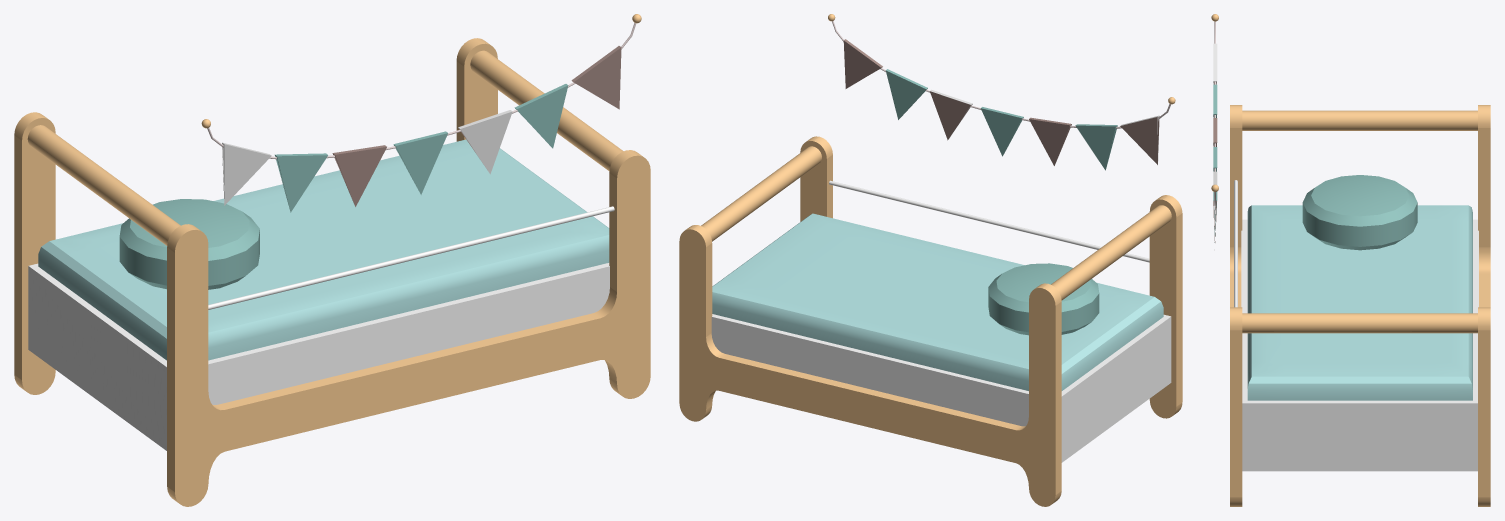
The model's file is Furn4_bed_color1_joined.fbx.
The picture shows the model from 3 angles, left to right: view 1: azimuth 30°, elevation 25°; view 2: azimuth 150°, elevation 25°; view 3: azimuth 270°, elevation 25°; orthographic projection. The views are drawn at different scales.
Visible parts, largest first — view 1: Куб.001; view 2: Куб.001; view 3: Куб.001.
Part boxes in pixels (x1,y1,x2,y2): Куб.001: (14, 14, 650, 506); Куб.001: (679, 14, 1182, 506); Куб.001: (1211, 14, 1490, 506).
Size of the model in its own units: 390 by 307 by 244.
